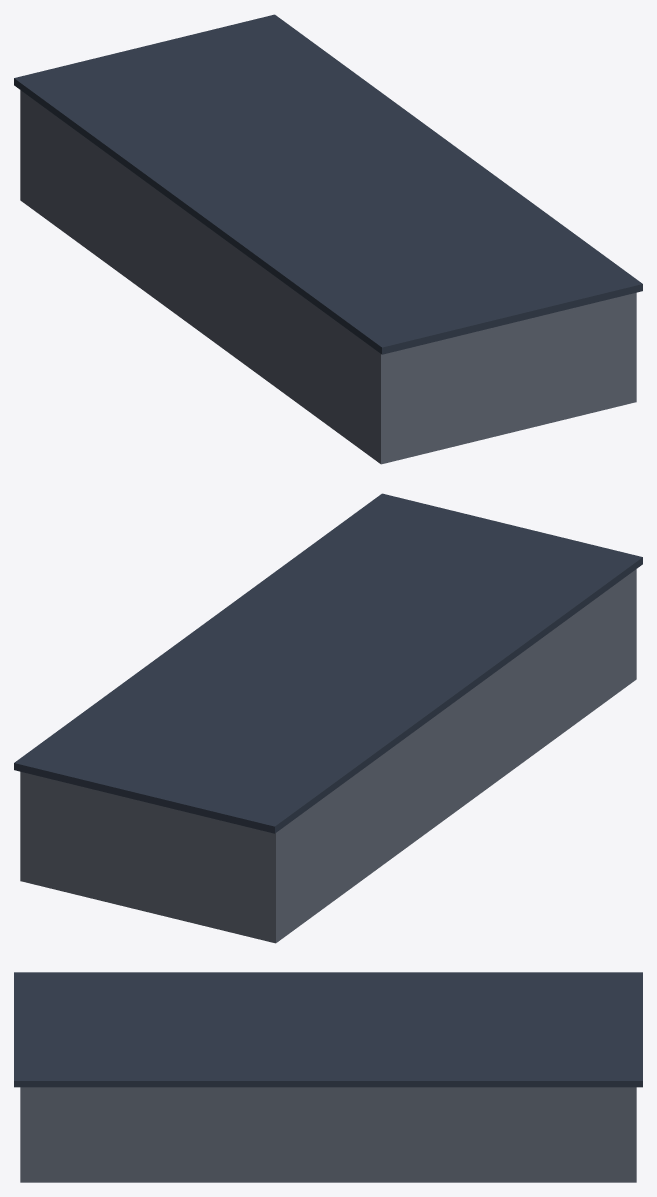
Rendered from paddockChalets.glb.
The picture shows the model from 3 angles, top to bottom: view 1: azimuth 30°, elevation 25°; view 2: azimuth 150°, elevation 25°; view 3: azimuth 270°, elevation 25°; orthographic projection. The views are drawn at different scales.
Parts seen in each view (by area): view 1: paddockChalets; view 2: paddockChalets; view 3: paddockChalets.
Part boxes in pixels (bbox=[...]): paddockChalets: bbox=[14, 14, 642, 464]; paddockChalets: bbox=[14, 493, 642, 943]; paddockChalets: bbox=[14, 972, 642, 1182].
Size of the model in its own units: 4.59 by 2.02 by 11.22.
